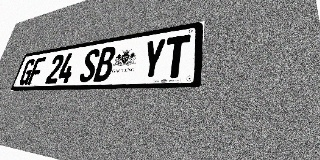2: (45, 54, 65, 84)
4: (56, 52, 78, 83)
B: (93, 46, 117, 82)
F: (27, 57, 46, 85)
G: (18, 58, 36, 85)
S: (78, 48, 101, 82)
T: (162, 34, 191, 78)
Y: (140, 38, 167, 80)
